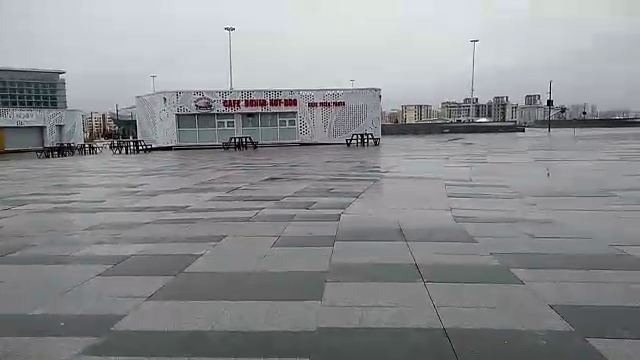kebab: (174, 90, 373, 147)
